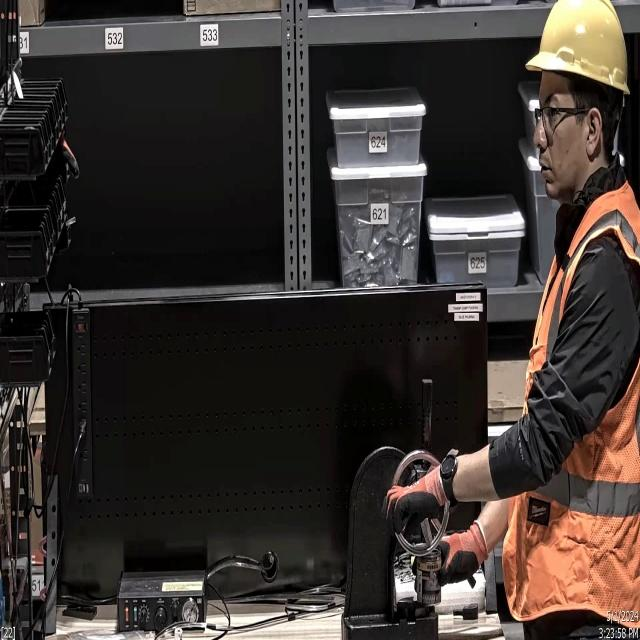construction-gloves: (380, 448, 458, 543), (412, 520, 492, 610)
